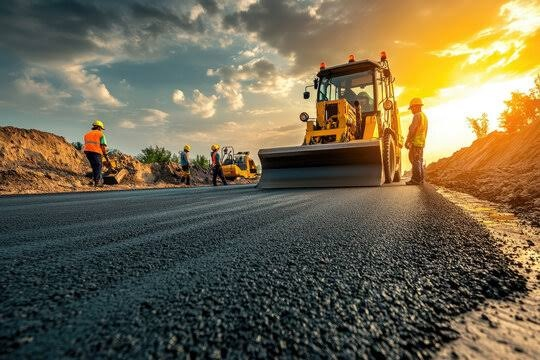hardhat: (404, 95, 425, 112), (87, 119, 104, 128), (205, 142, 220, 151), (181, 144, 193, 153)
machinery: (217, 141, 265, 186)
person: (69, 116, 113, 191), (401, 96, 432, 192), (169, 142, 199, 185), (204, 140, 227, 185)
safety_vest: (408, 114, 436, 150), (81, 129, 104, 156), (209, 154, 221, 167)
